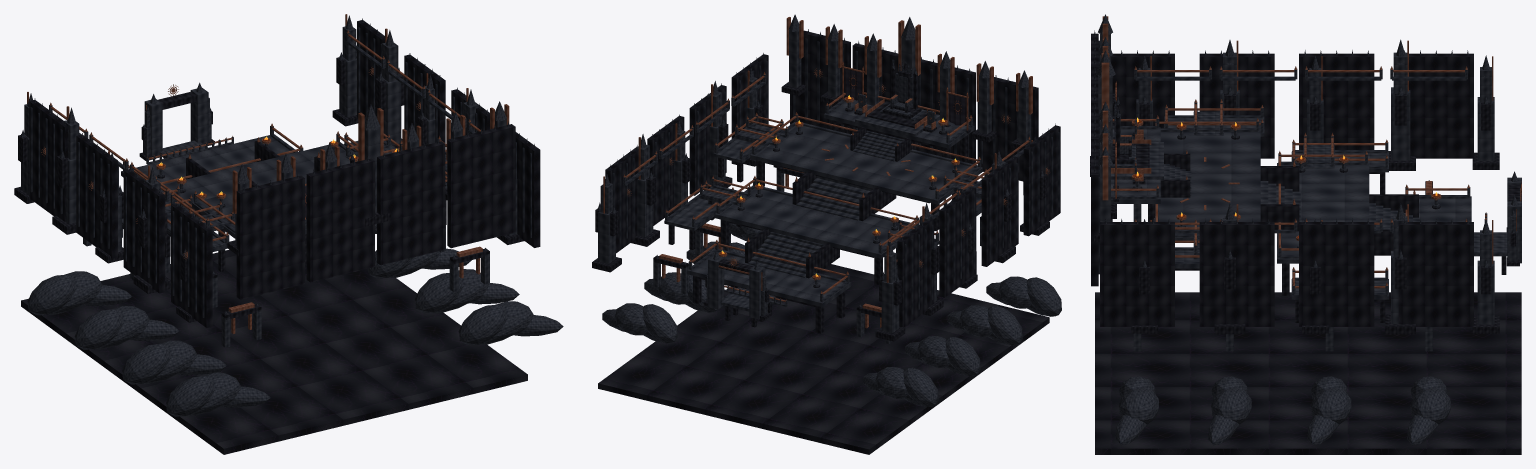
File: dark-throne.glb
3 views of the same model, side by side, from view 1: azimuth 30°, elevation 25°; view 2: azimuth 150°, elevation 25°; view 3: azimuth 270°, elevation 25° (orthographic). The views are drawn at different scales.
Visible parts, largest first — view 1: Arena_Foundation, RearWall_3_Wall, RearWall_0_Wall, RearWall_1_Wall, RearWall_2_Wall, CathedralWall_-1_3_Wall, CathedralWall_-1_1_Wall, CathedralWall_-1_2_Wall, CathedralWall_-1_0_Wall, IntermediateTerrace_Deck, LowerTerrace_Deck, CathedralWall_1_3_Wall (+27 smaller); view 2: Arena_Foundation, UpperTerrace_Deck, IntermediateTerrace_Deck, CathedralWall_-1_1_Wall, CathedralWall_-1_2_Wall, CathedralWall_-1_3_Wall, CathedralWall_-1_0_Wall, RearWall_3_Wall, LowerTerrace_Deck, RearWall_0_Wall, RearWall_1_Wall, CathedralWall_1_0_Wall (+38 smaller); view 3: Arena_Foundation, CathedralWall_1_1_Wall, CathedralWall_1_0_Wall, CathedralWall_1_3_Wall, CathedralWall_1_2_Wall, UpperTerrace_Deck, CathedralWall_-1_0_Wall, CathedralWall_-1_1_Wall, IntermediateTerrace_Deck, CathedralWall_-1_2_Wall, CathedralWall_-1_3_Wall, LowerTerrace_Deck (+33 smaller).
Part boxes in pixels (x1=…): Arena_Foundation: x1=21, y1=249, x2=527, y2=454; RearWall_3_Wall: x1=447, y1=124, x2=515, y2=248; RearWall_0_Wall: x1=236, y1=175, x2=304, y2=299; RearWall_1_Wall: x1=306, y1=158, x2=374, y2=282; RearWall_2_Wall: x1=377, y1=141, x2=445, y2=265; CathedralWall_-1_3_Wall: x1=171, y1=204, x2=212, y2=327; CathedralWall_-1_1_Wall: x1=76, y1=134, x2=117, y2=258; CathedralWall_-1_2_Wall: x1=123, y1=169, x2=165, y2=293; CathedralWall_-1_0_Wall: x1=29, y1=100, x2=67, y2=221; IntermediateTerrace_Deck: x1=161, y1=144, x2=349, y2=210; LowerTerrace_Deck: x1=121, y1=135, x2=293, y2=184; CathedralWall_1_3_Wall: x1=515, y1=132, x2=540, y2=247; Arena_Foundation: x1=598, y1=264, x2=1049, y2=454; UpperTerrace_Deck: x1=750, y1=125, x2=982, y2=204; IntermediateTerrace_Deck: x1=714, y1=188, x2=910, y2=258; CathedralWall_-1_1_Wall: x1=939, y1=187, x2=976, y2=297; CathedralWall_-1_2_Wall: x1=981, y1=156, x2=1018, y2=266; CathedralWall_-1_3_Wall: x1=1023, y1=125, x2=1060, y2=236; CathedralWall_-1_0_Wall: x1=897, y1=218, x2=934, y2=327; RearWall_3_Wall: x1=790, y1=30, x2=850, y2=134; LowerTerrace_Deck: x1=687, y1=251, x2=851, y2=307; RearWall_0_Wall: x1=977, y1=77, x2=1038, y2=181; RearWall_1_Wall: x1=915, y1=59, x2=975, y2=163; CathedralWall_1_0_Wall: x1=605, y1=147, x2=638, y2=253; Arena_Foundation: x1=1095, y1=292, x2=1521, y2=454; CathedralWall_1_1_Wall: x1=1299, y1=222, x2=1374, y2=326; CathedralWall_1_0_Wall: x1=1398, y1=222, x2=1473, y2=326; CathedralWall_1_3_Wall: x1=1100, y1=222, x2=1174, y2=326; CathedralWall_1_2_Wall: x1=1199, y1=222, x2=1274, y2=326; UpperTerrace_Deck: x1=1154, y1=130, x2=1260, y2=240; CathedralWall_-1_0_Wall: x1=1409, y1=53, x2=1473, y2=158; CathedralWall_-1_1_Wall: x1=1299, y1=53, x2=1374, y2=149; IntermediateTerrace_Deck: x1=1277, y1=163, x2=1369, y2=263; CathedralWall_-1_2_Wall: x1=1199, y1=53, x2=1274, y2=158; CathedralWall_-1_3_Wall: x1=1111, y1=53, x2=1174, y2=128; LowerTerrace_Deck: x1=1419, y1=196, x2=1471, y2=221.
Bounding box in the file's own units: 66 × 50.69 × 60.7.
Materials: 6 (6 with a texture image).
